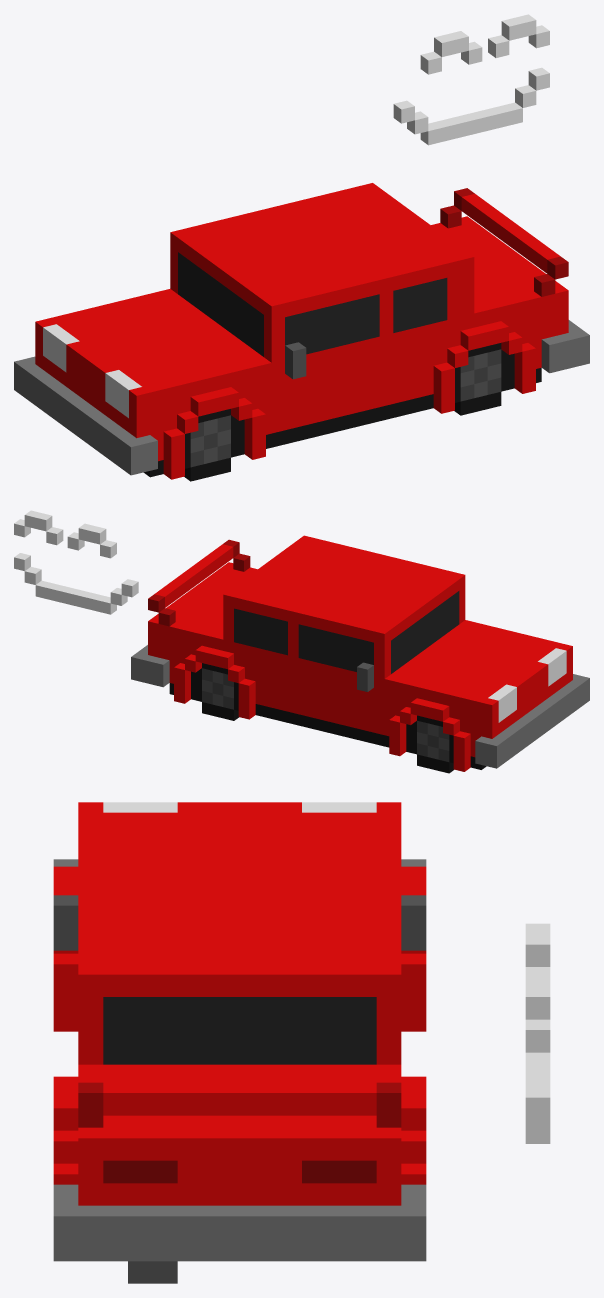
Rendered from car_06.glb.
The picture shows the model from 3 angles, top to bottom: view 1: azimuth 30°, elevation 25°; view 2: azimuth 150°, elevation 25°; view 3: azimuth 270°, elevation 25°; orthographic projection. The views are drawn at different scales.
Visible parts, largest first — view 1: ObjObject; view 2: ObjObject; view 3: ObjObject.
Part boxes in pixels (box(x1,y1,x2,y2)): ObjObject: box(14, 14, 589, 481); ObjObject: box(14, 510, 589, 773); ObjObject: box(53, 802, 550, 1283).
Size of the model in its own units: 4.2 by 1.7 by 2.
Materials: 1 (1 with a texture image).
